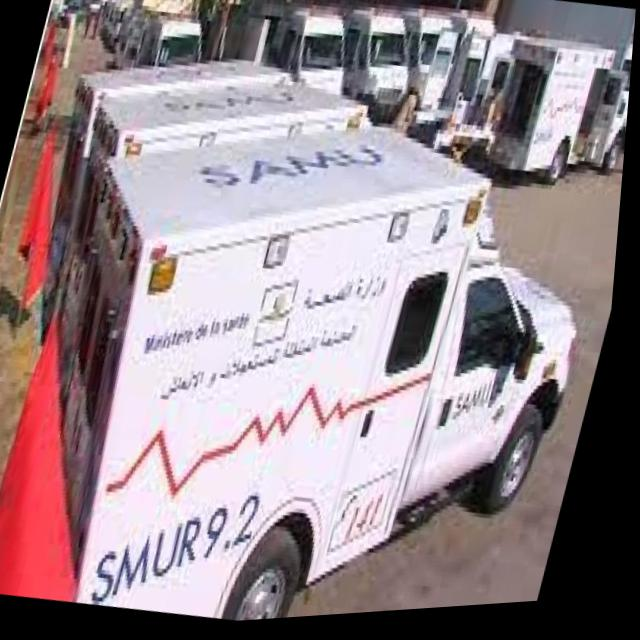ambulance: (0, 55, 634, 639)
